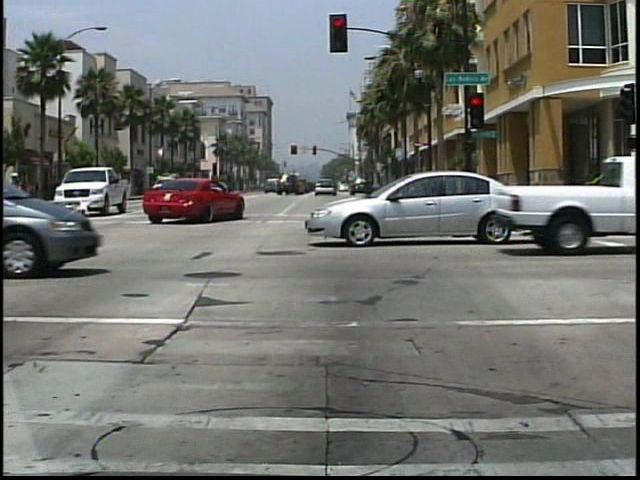person: (5, 170, 37, 226)
